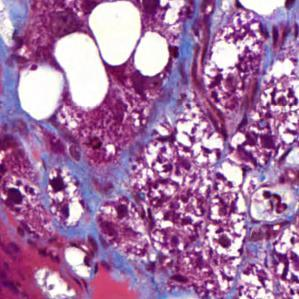steatosis: (132, 29, 172, 79)
